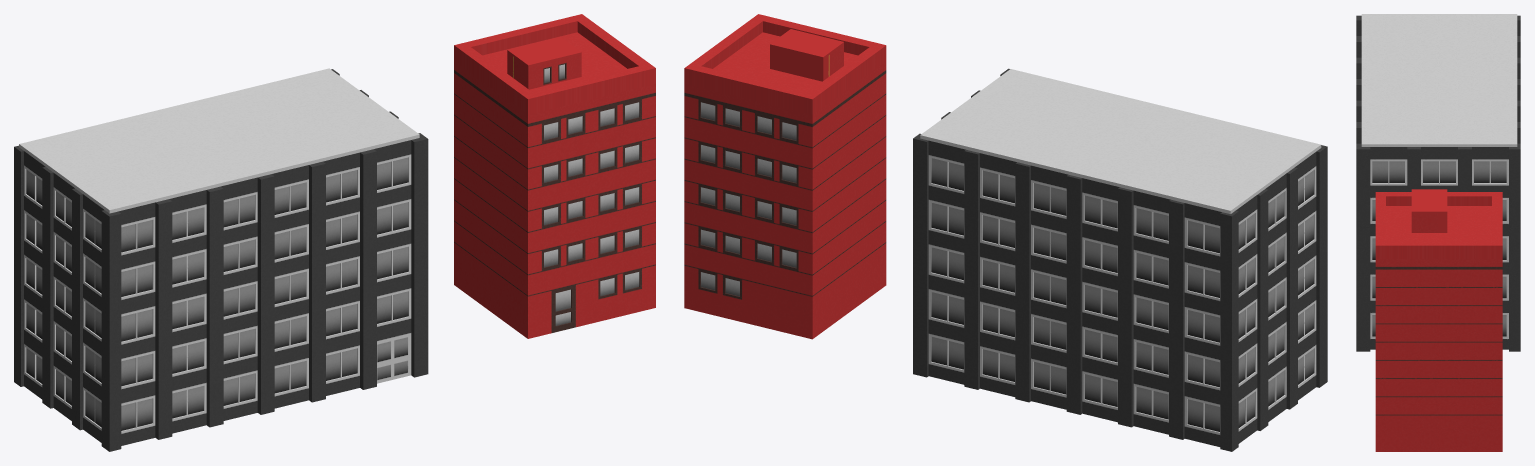
The model's file is City_05.fbx.
3 renders of one model, left to right at view 1: azimuth 30°, elevation 25°; view 2: azimuth 150°, elevation 25°; view 3: azimuth 270°, elevation 25°, orthographic. The views are drawn at different scales.
Parts seen in each view (by area): view 1: Building_10, Building_11; view 2: Building_10, Building_11; view 3: Building_10, Building_11.
Boxes of the visible parts, x1,y1,x2,y2 form: Building_10: [14, 68, 428, 451]; Building_11: [454, 14, 655, 338]; Building_10: [913, 68, 1327, 451]; Building_11: [684, 14, 886, 339]; Building_10: [1356, 14, 1520, 351]; Building_11: [1375, 189, 1502, 451].
Bounding box in the file's own units: 523 × 227 × 155.
